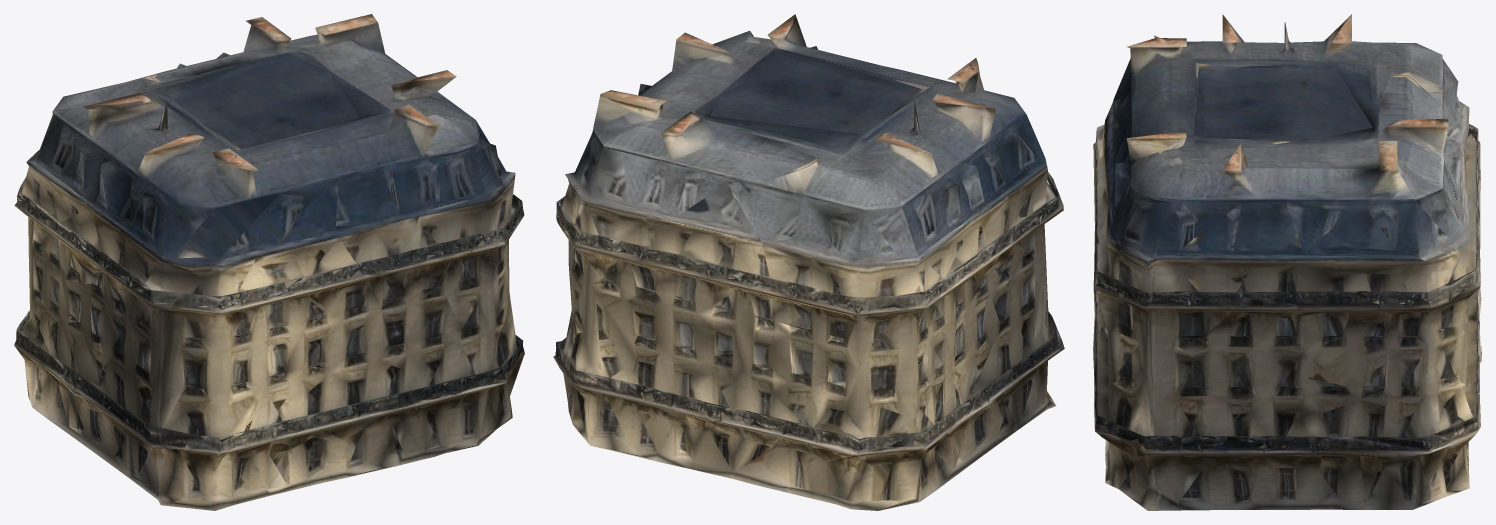
The model's file is haus_altbau.glb.
3 views of the same model, side by side, from view 1: azimuth 30°, elevation 25°; view 2: azimuth 150°, elevation 25°; view 3: azimuth 270°, elevation 25° (orthographic). The views are drawn at different scales.
Visible parts, largest first — view 1: tripo_node_30d4cd0c-ae79-4d14-bf1a-f767e285d234; view 2: tripo_node_30d4cd0c-ae79-4d14-bf1a-f767e285d234; view 3: tripo_node_30d4cd0c-ae79-4d14-bf1a-f767e285d234.
Boxes of the visible parts, <box> form: tripo_node_30d4cd0c-ae79-4d14-bf1a-f767e285d234: <box>14,14,524,510</box>; tripo_node_30d4cd0c-ae79-4d14-bf1a-f767e285d234: <box>553,14,1064,510</box>; tripo_node_30d4cd0c-ae79-4d14-bf1a-f767e285d234: <box>1093,14,1481,510</box>.
Bounding box in the file's own units: 1 × 0.8577 × 0.864.
1 material, 1 textured.
